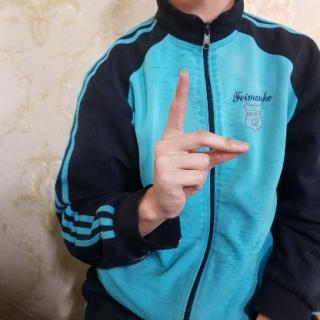TAA: (146, 64, 255, 235)
